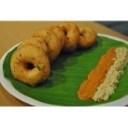vada: (10, 47, 48, 85), (58, 22, 80, 50), (78, 23, 97, 46)
